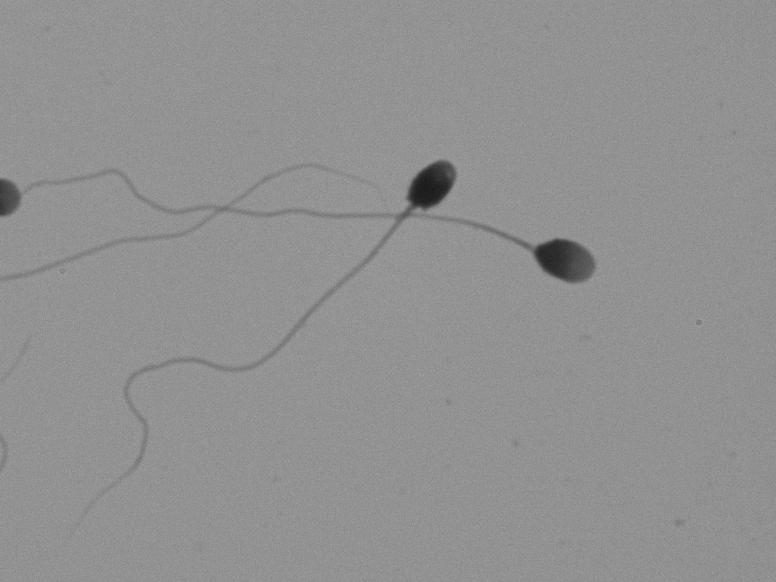Abnormal: (42, 130, 466, 557)
Normal: (437, 209, 654, 319)
